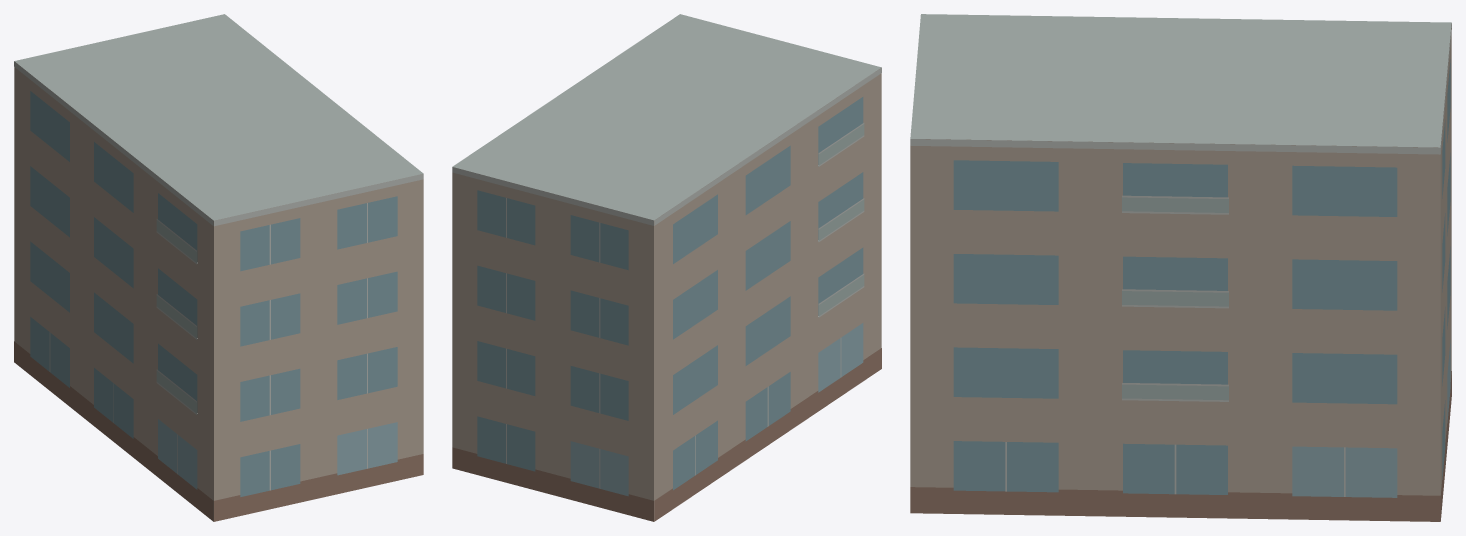
Rendered from survey-upis-33043691.glb.
3 views of the same model, side by side, from view 1: azimuth 30°, elevation 25°; view 2: azimuth 150°, elevation 25°; view 3: azimuth 270°, elevation 25° (orthographic). The views are drawn at different scales.
Parts seen in each view (by area): view 1: survey-upis-33043691.tmp; view 2: survey-upis-33043691.tmp; view 3: survey-upis-33043691.tmp.
Boxes of the visible parts, box(x1,y1,x2,y2) form: survey-upis-33043691.tmp: box(14, 14, 423, 521); survey-upis-33043691.tmp: box(452, 14, 881, 521); survey-upis-33043691.tmp: box(910, 14, 1451, 521).
Size of the model in its own units: 9.95 by 13 by 17.05.
